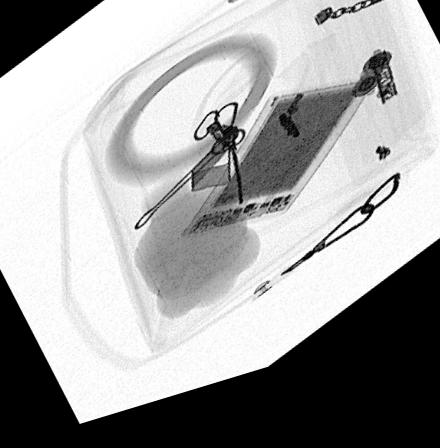Powerbank: (181, 103, 376, 246)
